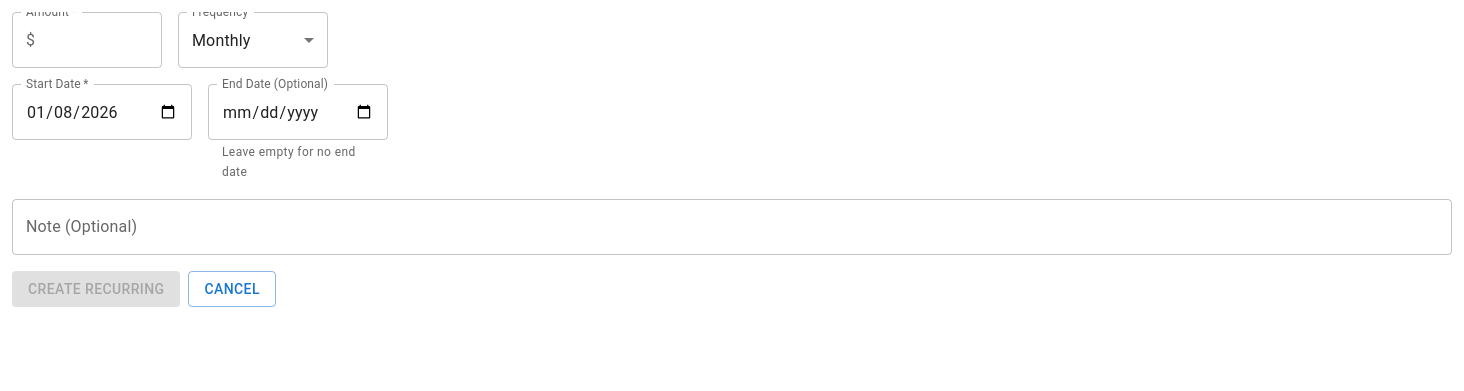
Test: RecurringContributionForm › Submission error handling (line 59) › shows error message when submission fails
This screenshot has width=1464, height=391.
Type "100" into the number field labelled "Amount *" at (103, 40), box [43, 12, 162, 68]
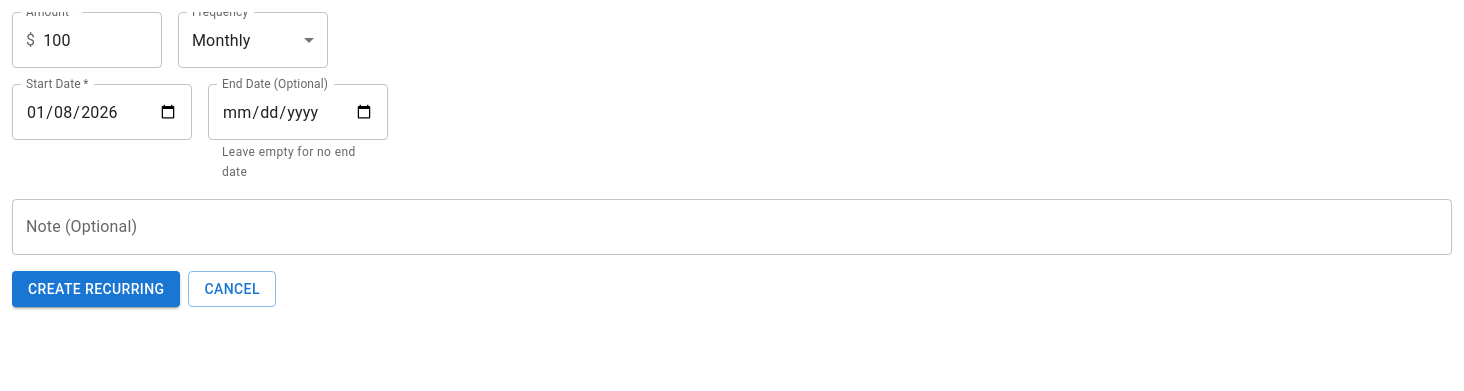
Click the button "Create Recurring" at (96, 289), box [12, 271, 180, 307]
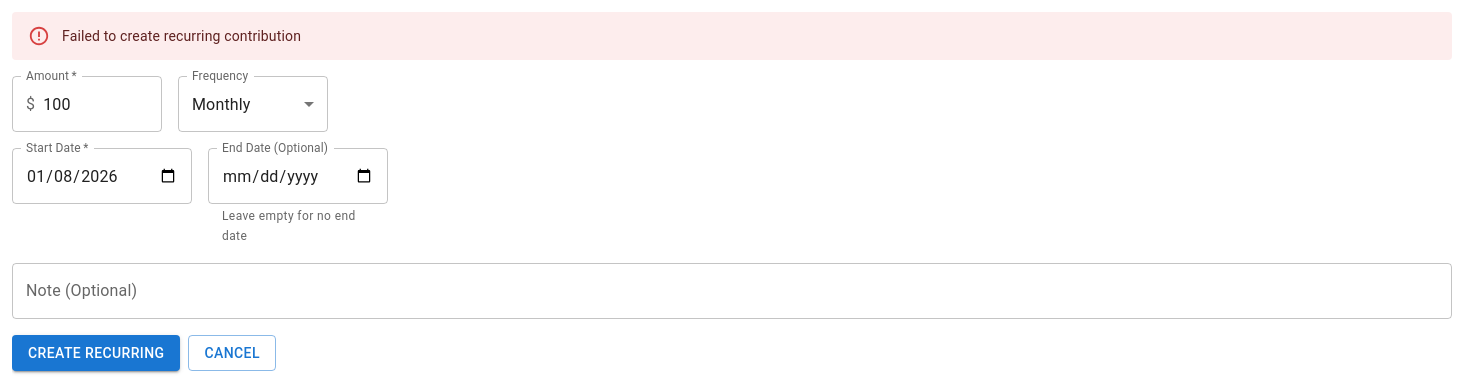
Result: the text "Failed to create recurring contribution" is shown at [62, 28, 301, 44]
